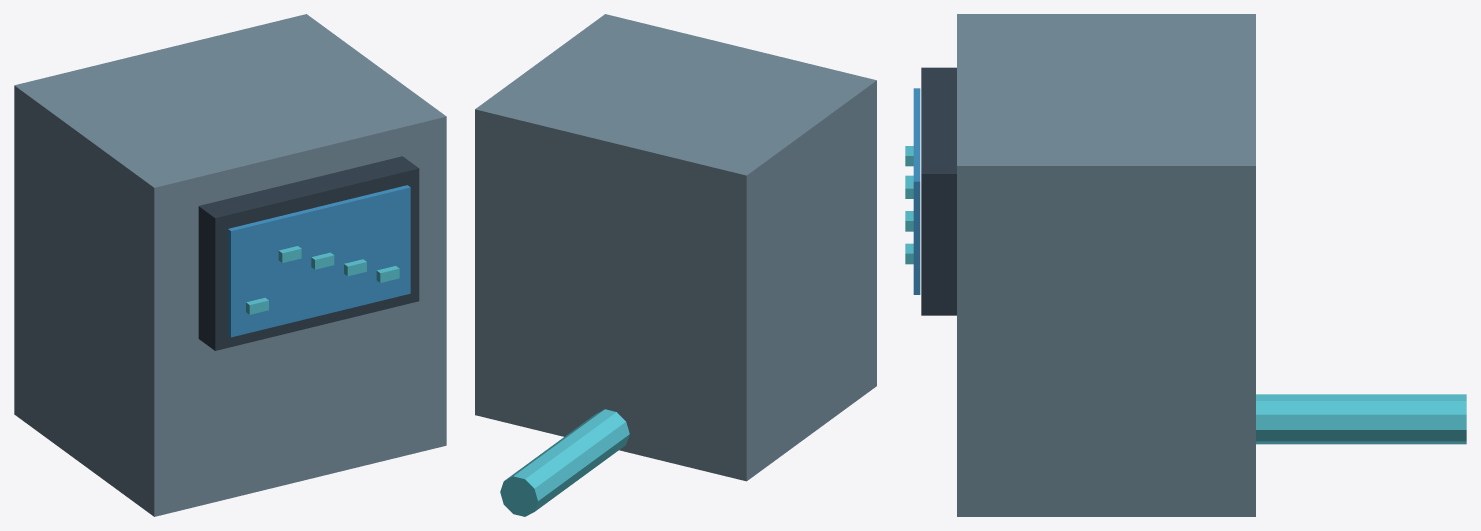
File: 24_L69_DischargeTemperatureSensor.glb
3 views of the same model, side by side, from view 1: azimuth 30°, elevation 25°; view 2: azimuth 150°, elevation 25°; view 3: azimuth 270°, elevation 25° (orthographic). The views are drawn at different scales.
Parts seen in each view (by area): view 1: DischargeTemperatureSensor_Part_000, DischargeTemperatureSensor_Part_002, DischargeTemperatureSensor_Part_001; view 2: DischargeTemperatureSensor_Part_000, DischargeTemperatureSensor_Part_008; view 3: DischargeTemperatureSensor_Part_000, DischargeTemperatureSensor_Part_008, DischargeTemperatureSensor_Part_001, DischargeTemperatureSensor_Part_002.
Boxes of the visible parts, x1,y1,x2,y2 form: DischargeTemperatureSensor_Part_000: (14,14,446,516); DischargeTemperatureSensor_Part_002: (228,185,410,337); DischargeTemperatureSensor_Part_001: (198,156,419,350); DischargeTemperatureSensor_Part_000: (475,14,876,481); DischargeTemperatureSensor_Part_008: (500,409,629,516); DischargeTemperatureSensor_Part_000: (957,14,1255,516); DischargeTemperatureSensor_Part_008: (1256,394,1466,444); DischargeTemperatureSensor_Part_001: (921,67,956,315); DischargeTemperatureSensor_Part_002: (913,88,920,294).
Bounding box in the file's own units: 0.53 × 0.5702 × 0.826.
